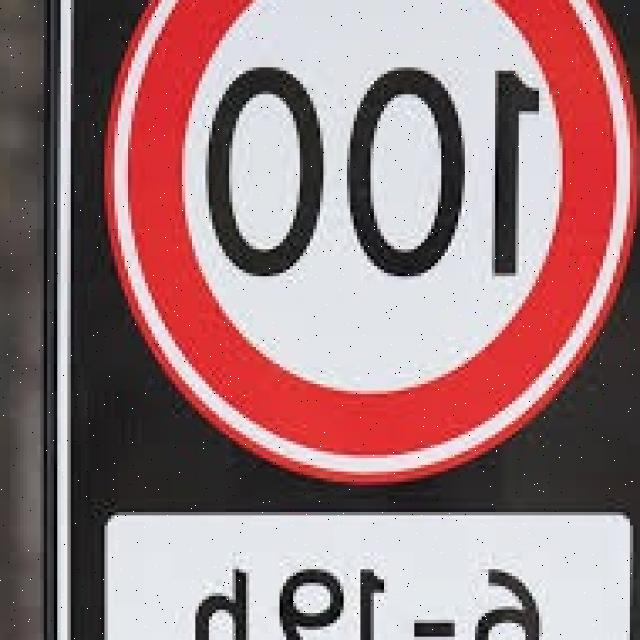speed_limit_100: (98, 0, 640, 481)
